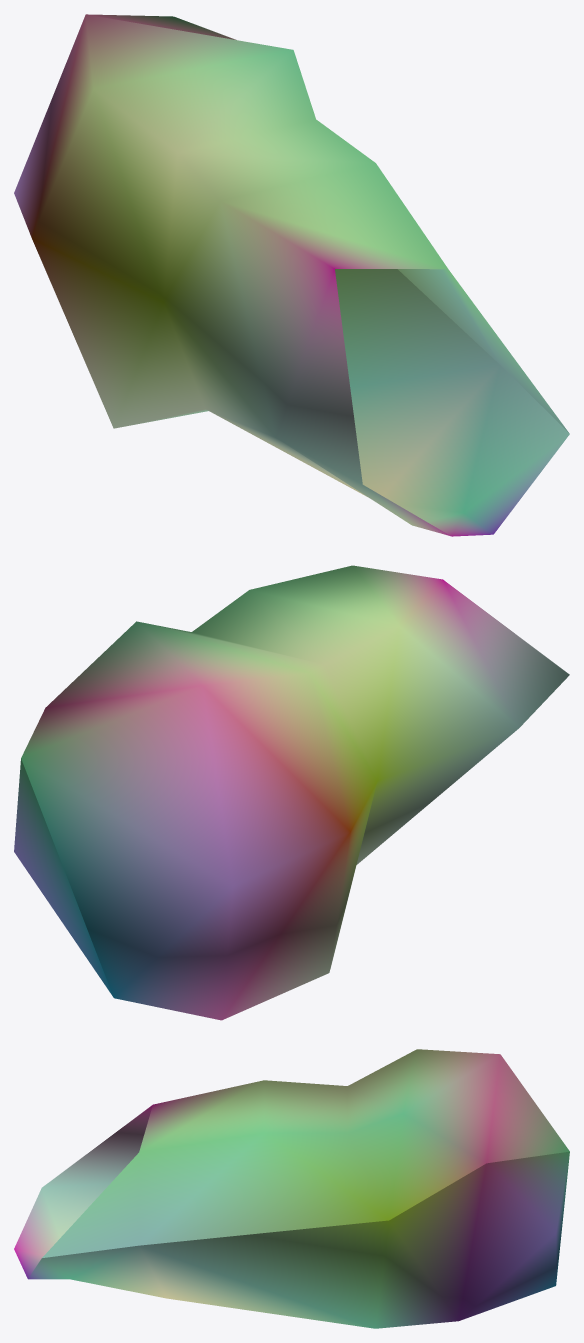
The picture shows the model from 3 angles, top to bottom: view 1: azimuth 30°, elevation 25°; view 2: azimuth 150°, elevation 25°; view 3: azimuth 270°, elevation 25°; orthographic projection. The views are drawn at different scales.
Visible parts, largest first — view 1: part; view 2: part; view 3: part.
Part boxes in pixels (bbox=[...]): part: bbox=[14, 14, 569, 536]; part: bbox=[14, 565, 569, 1020]; part: bbox=[14, 1049, 569, 1328].
Bounding box in the file's own units: 16 × 20 × 40.
